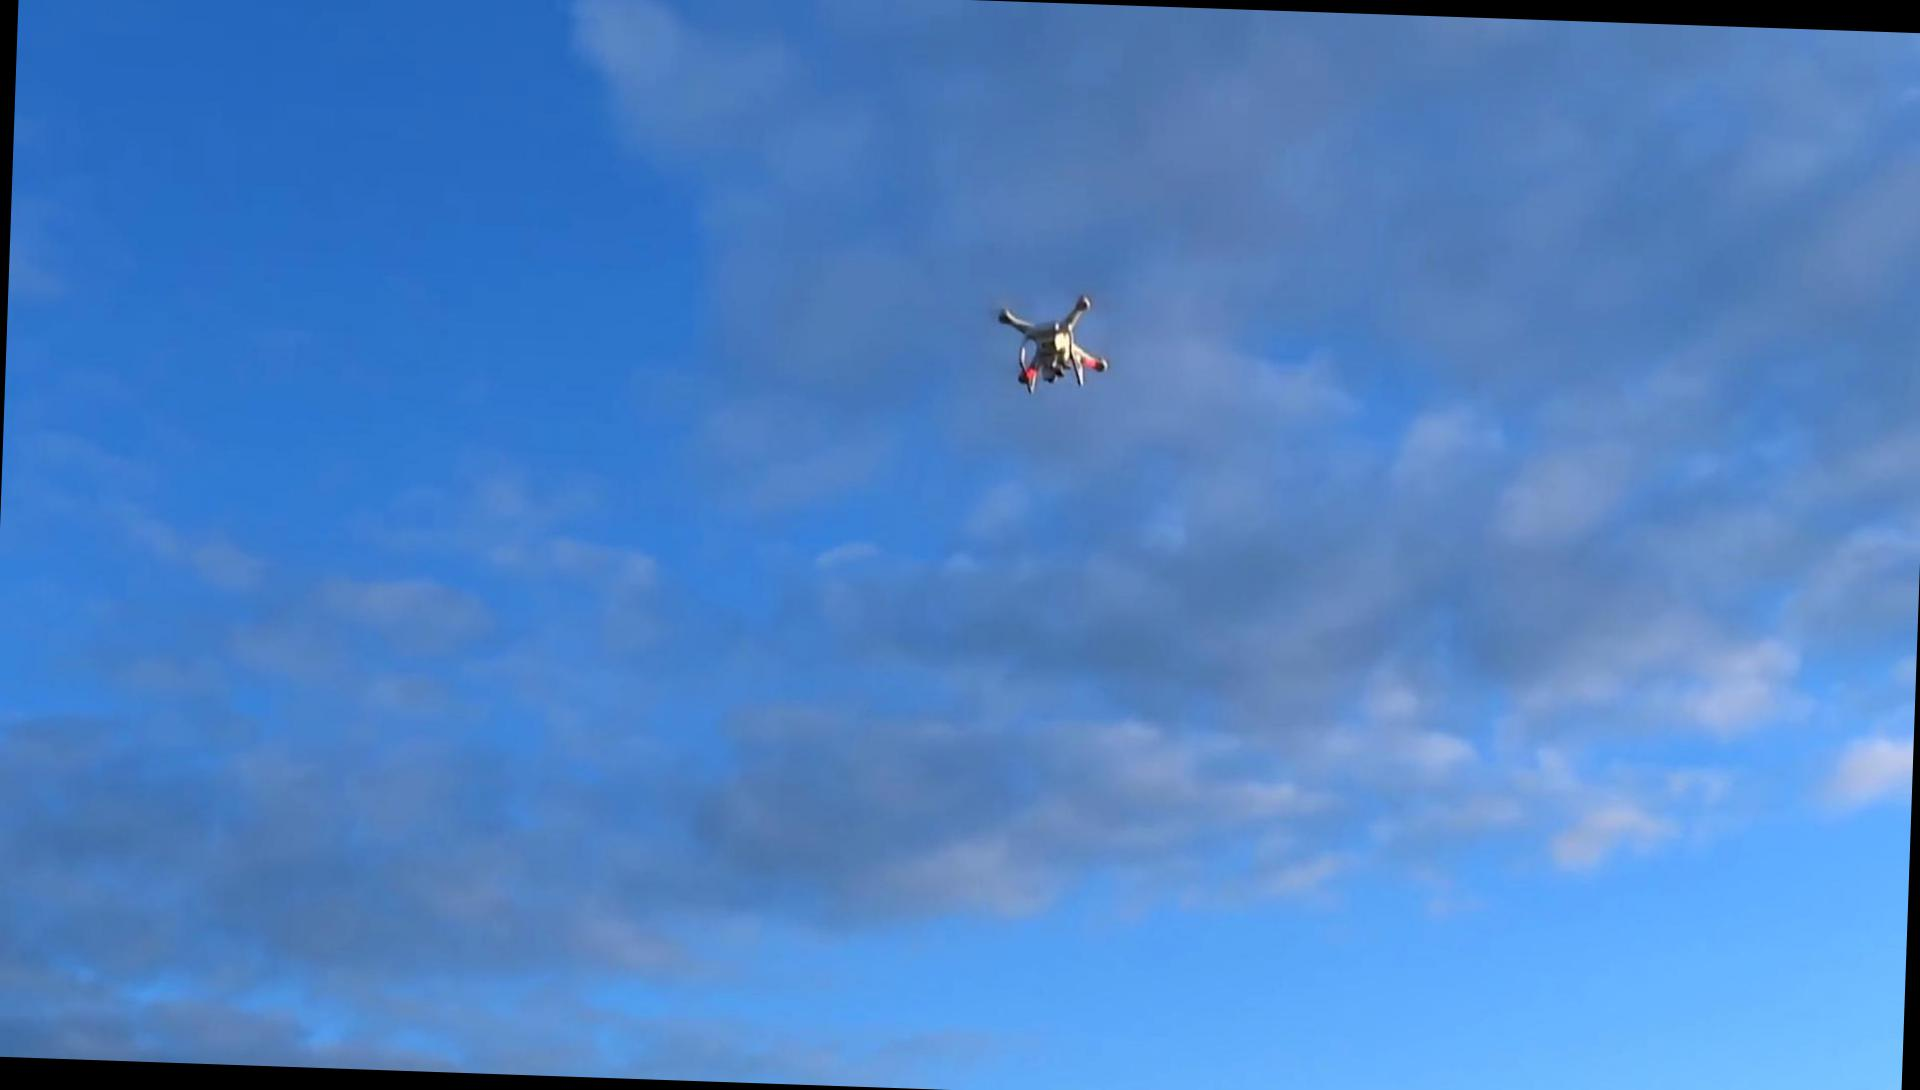drone: (985, 282, 1117, 393)
